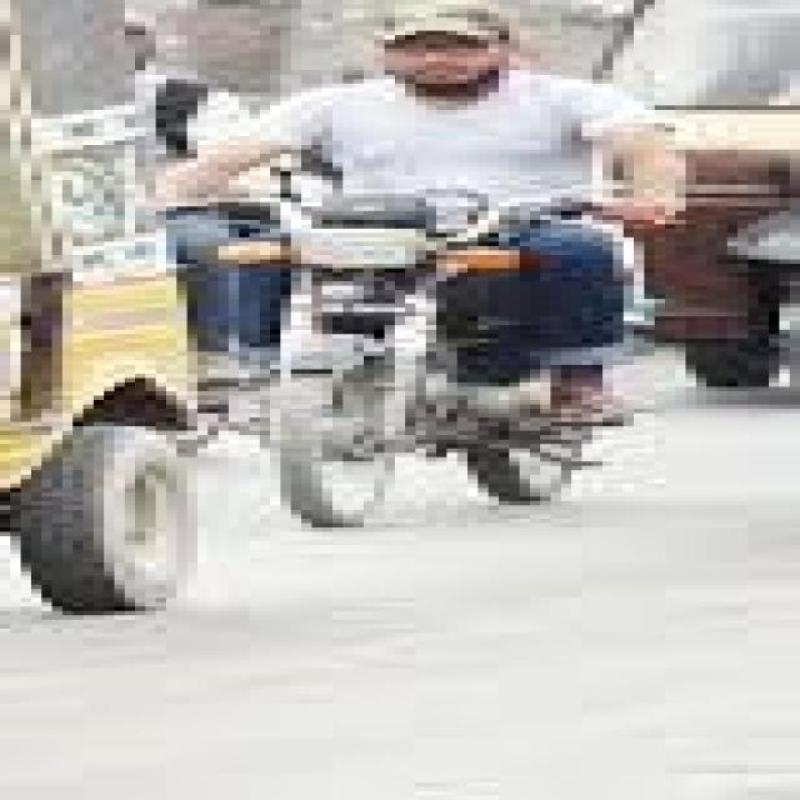nohelmet: (354, 5, 548, 94)
